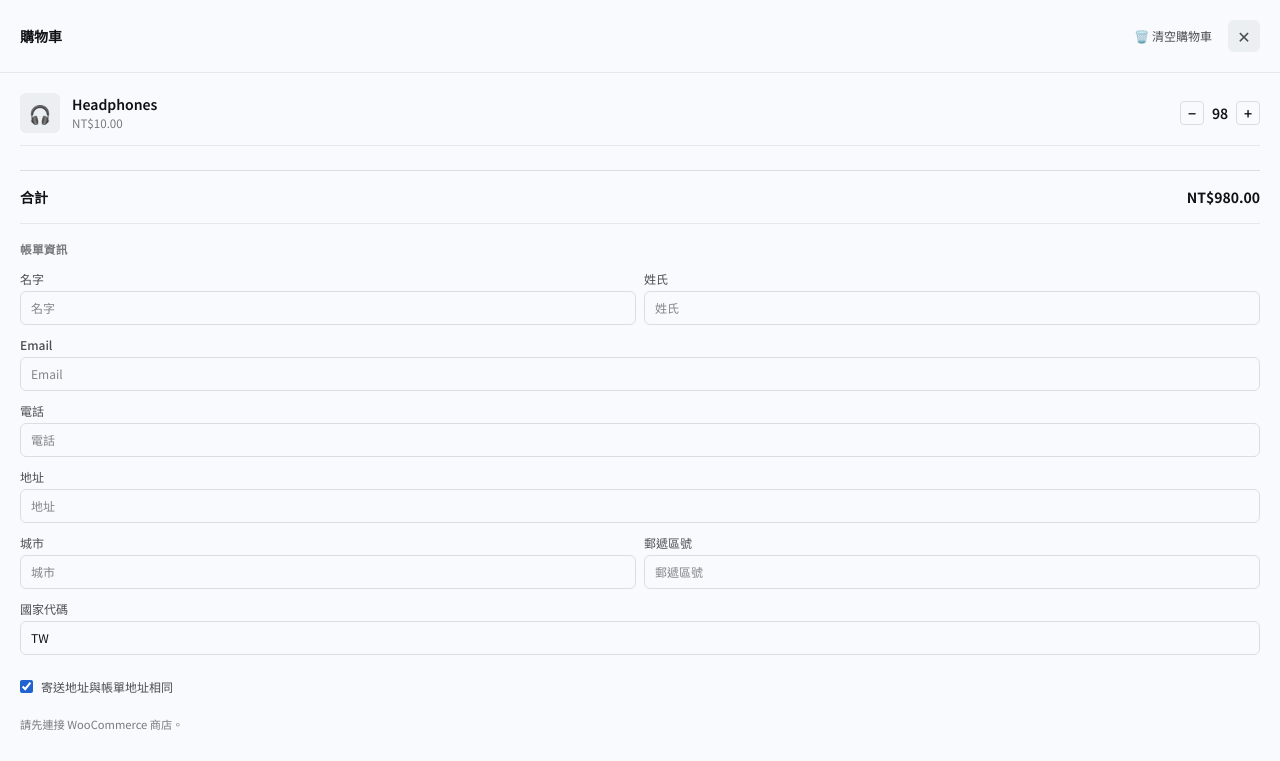
CartPanel increase button at qty cap (regression #593) › disables the increase button once a click reaches the cap
Click the button named "增加數量" at (1248, 113), box [1236,101,1260,125]
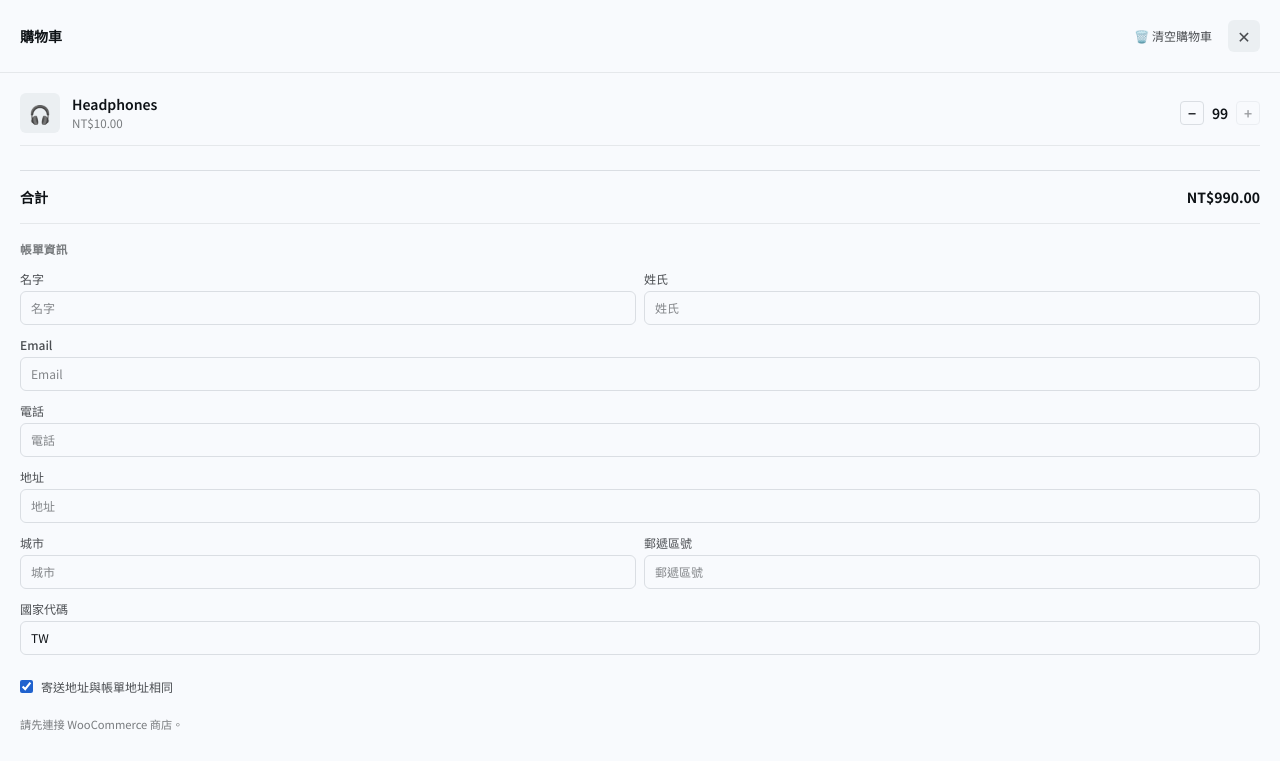
Expected: the button named "增加數量" is disabled, [1236,101,1260,125]
